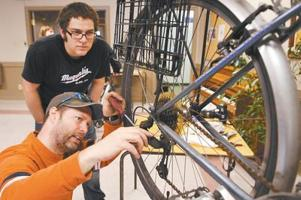person: (1, 91, 156, 199)
